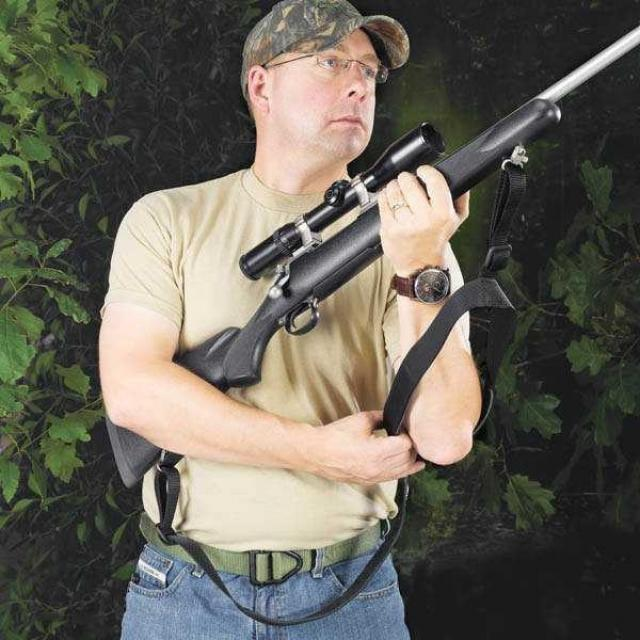weapon: (100, 0, 640, 494)
